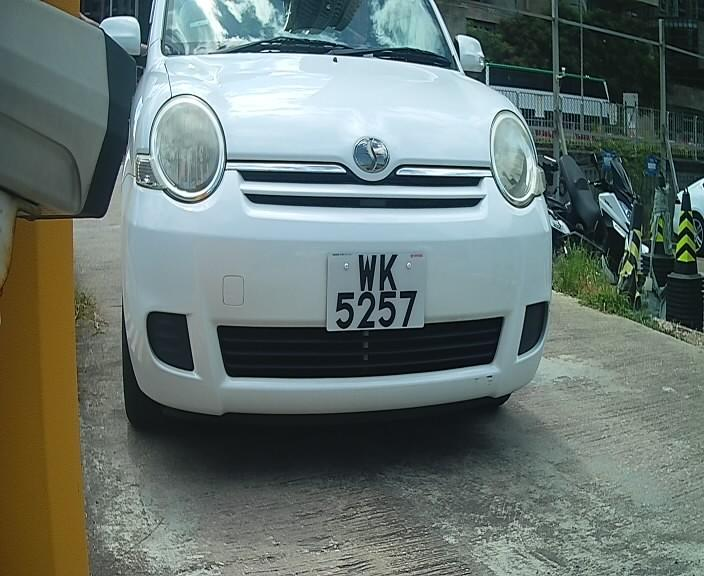privatecar: (85, 13, 595, 453)
